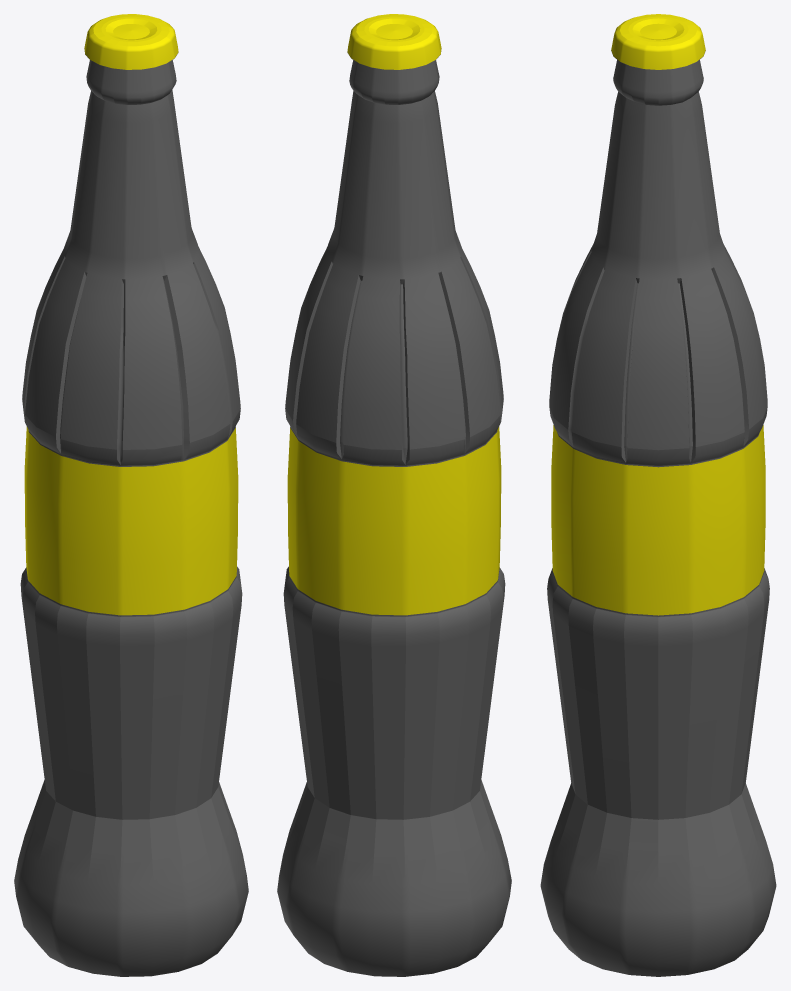
Rendered from YellowElixrActual.fbx.
3 views of the same model, side by side, from view 1: azimuth 30°, elevation 25°; view 2: azimuth 150°, elevation 25°; view 3: azimuth 270°, elevation 25° (orthographic).
Visible parts, largest first — view 1: pCylinder1; view 2: pCylinder1; view 3: pCylinder1.
Boxes of the visible parts, x1=… form: pCylinder1: x1=14, y1=14, x2=248, y2=976; pCylinder1: x1=277, y1=14, x2=511, y2=976; pCylinder1: x1=540, y1=14, x2=776, y2=976.
Bounding box in the file's own units: 2.38 × 10.09 × 2.38.
